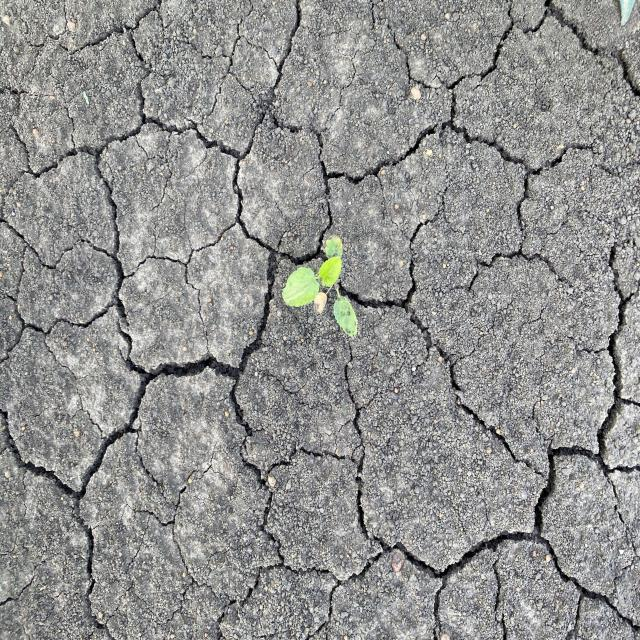PricklySida: (281, 232, 359, 340)
